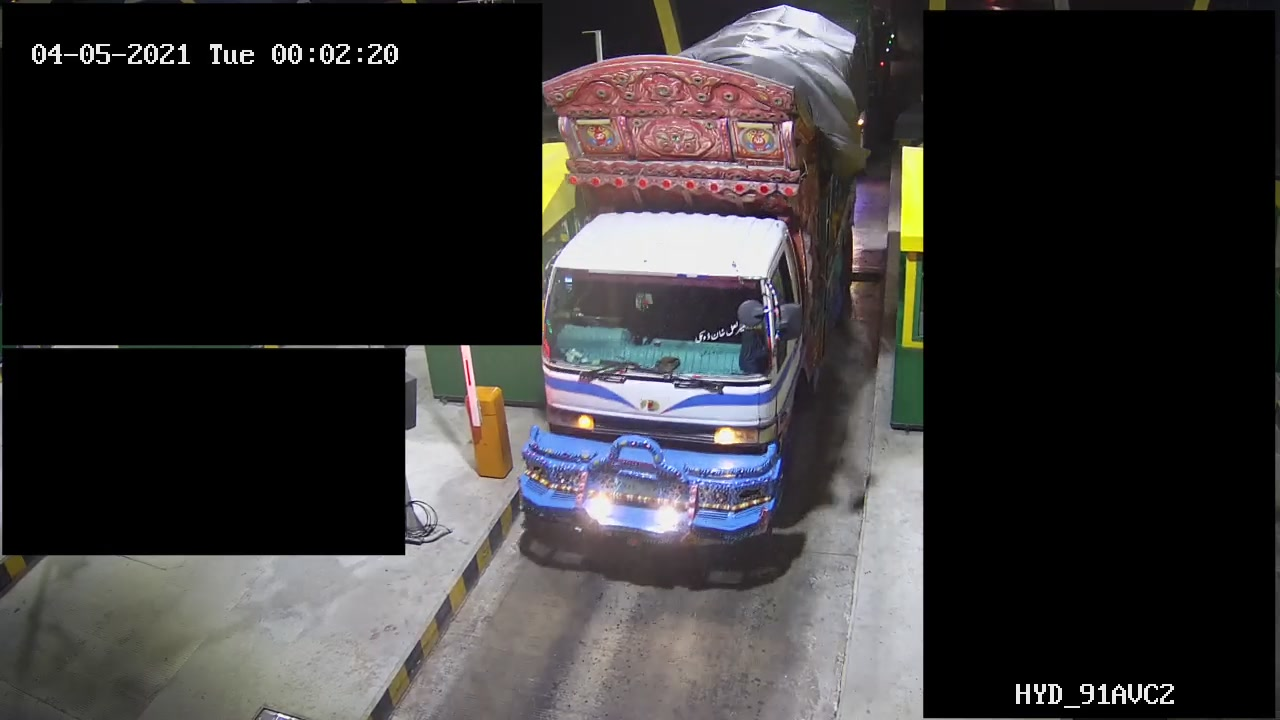F5: (513, 2, 867, 562)
